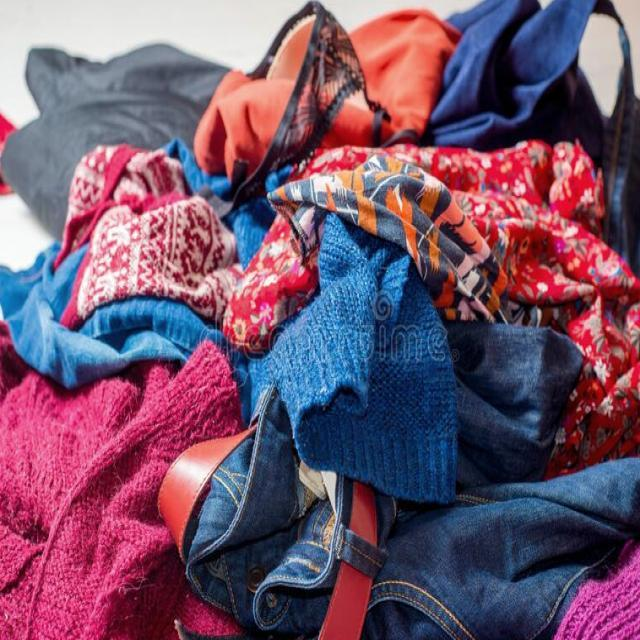clothes: (64, 81, 632, 640)
